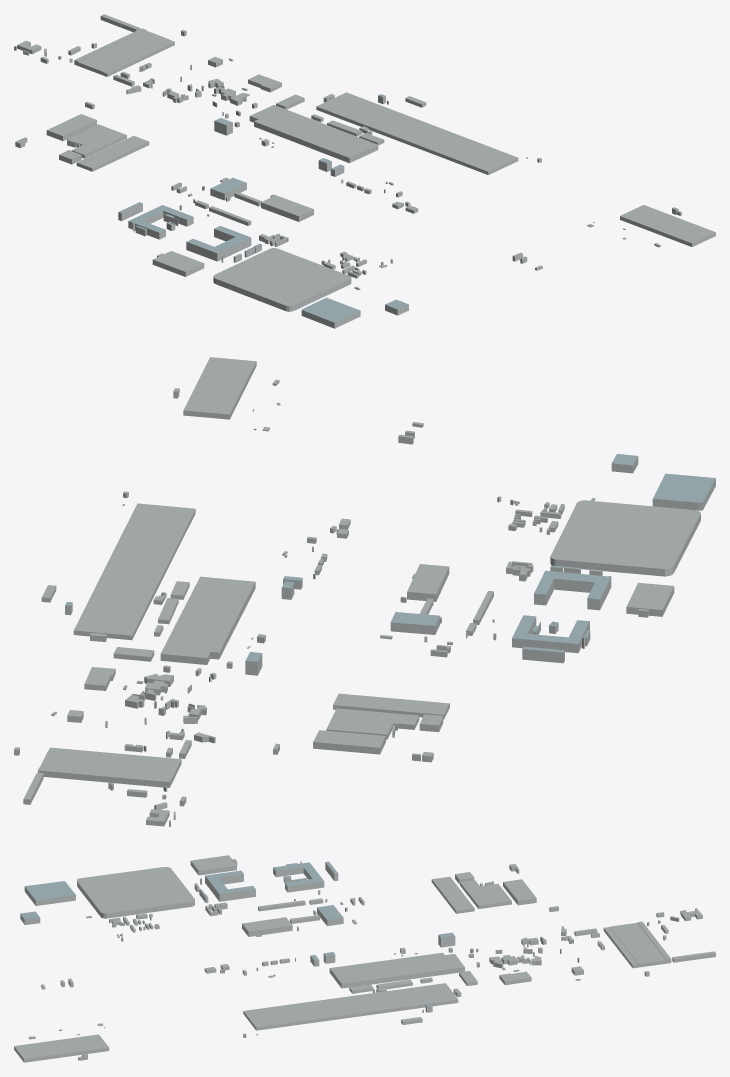
Rendered from far.glb.
The picture shows the model from 3 angles, top to bottom: view 1: azimuth 30°, elevation 25°; view 2: azimuth 150°, elevation 25°; view 3: azimuth 270°, elevation 25°; orthographic projection. The views are drawn at different scales.
Bounding box in the file's own units: 1478 × 32.38 × 2163.
